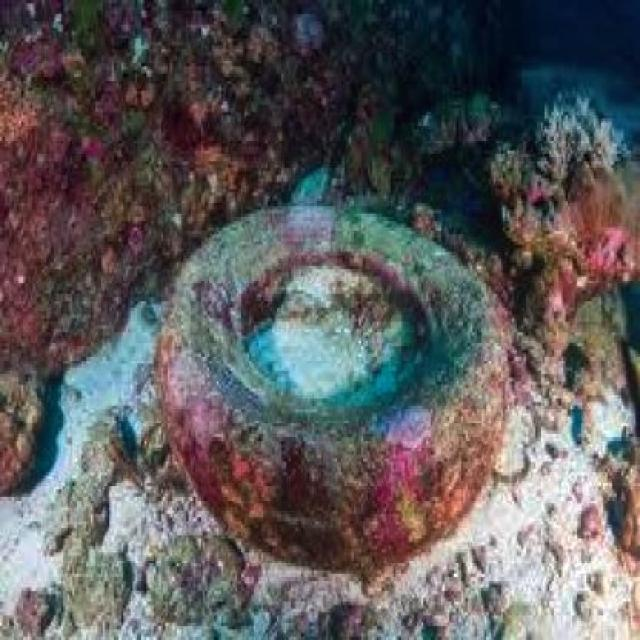tire: (149, 171, 545, 584)
